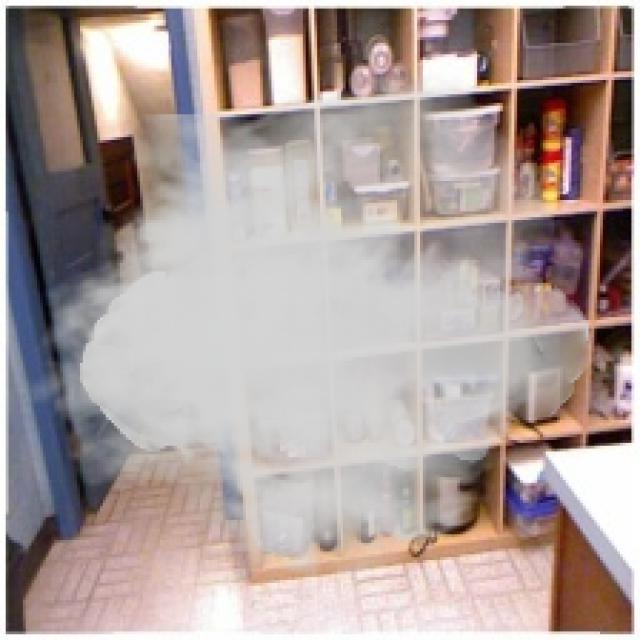Smoke: (22, 68, 592, 583)
